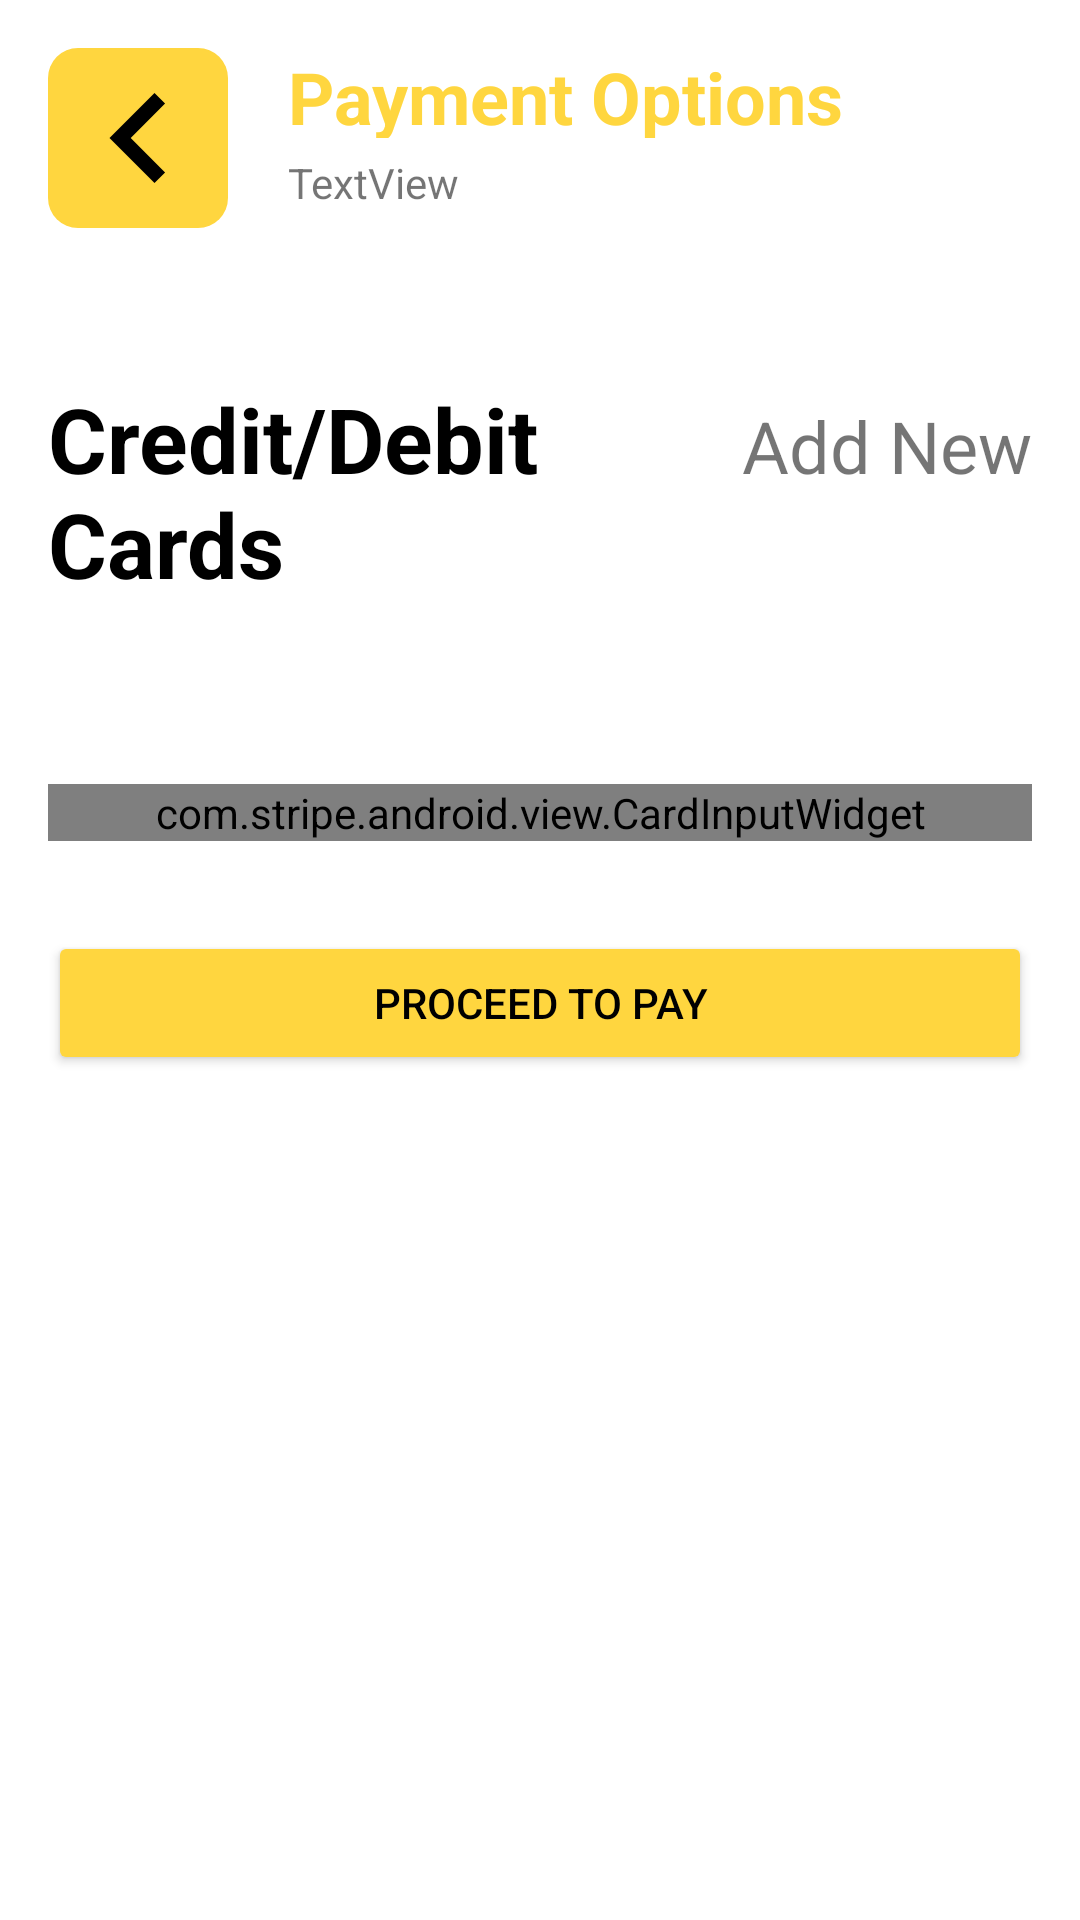

Named icons in this screenshot (1080x1920) and their bounding boxes, (x1, y1, x2, y2):
back: (48, 48, 228, 228)
